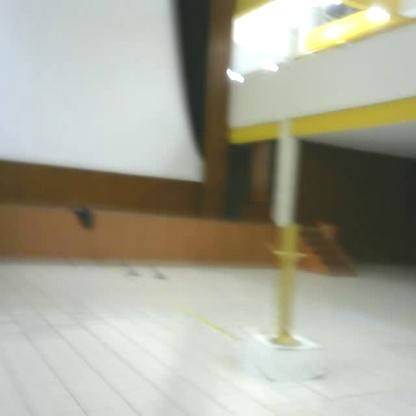pole: (265, 218, 311, 355)
